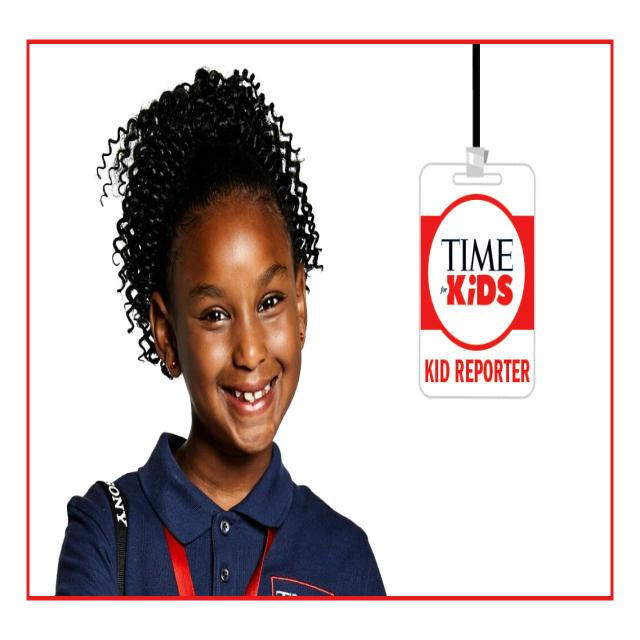child: (58, 70, 386, 596)
